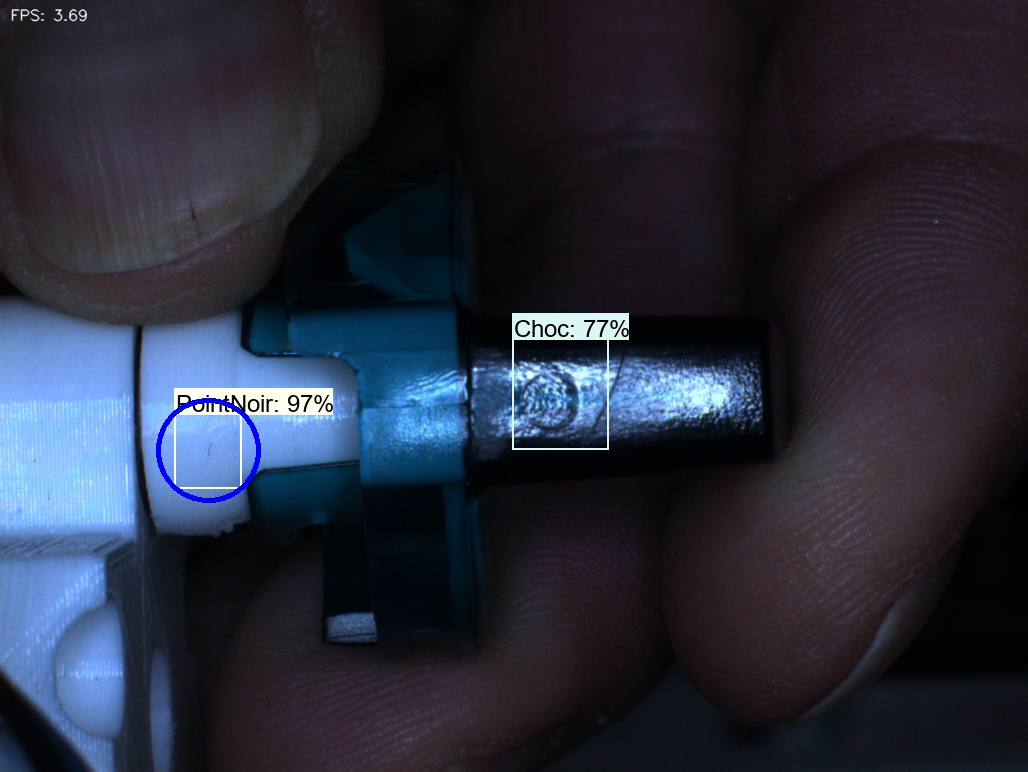DentOk: (312, 198, 391, 296)
